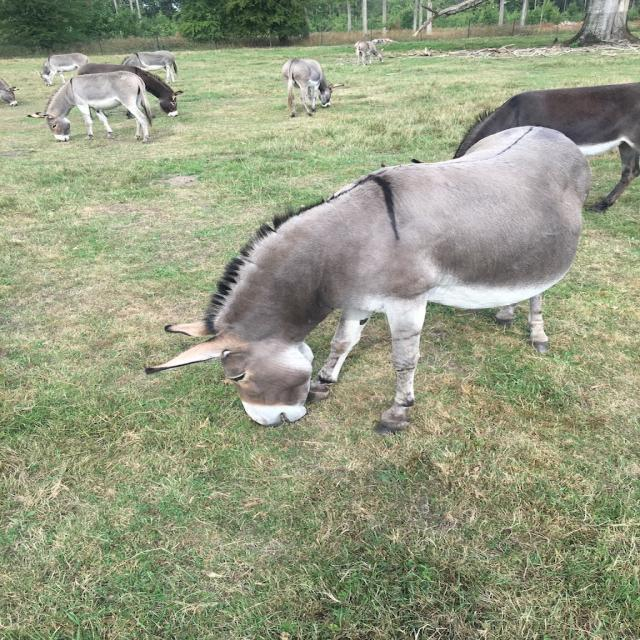Donkey: (142, 122, 592, 436), (408, 80, 638, 212), (25, 69, 153, 144), (74, 62, 184, 120), (279, 56, 344, 116), (30, 51, 90, 86), (118, 48, 176, 84), (352, 38, 382, 65), (0, 75, 19, 106)
